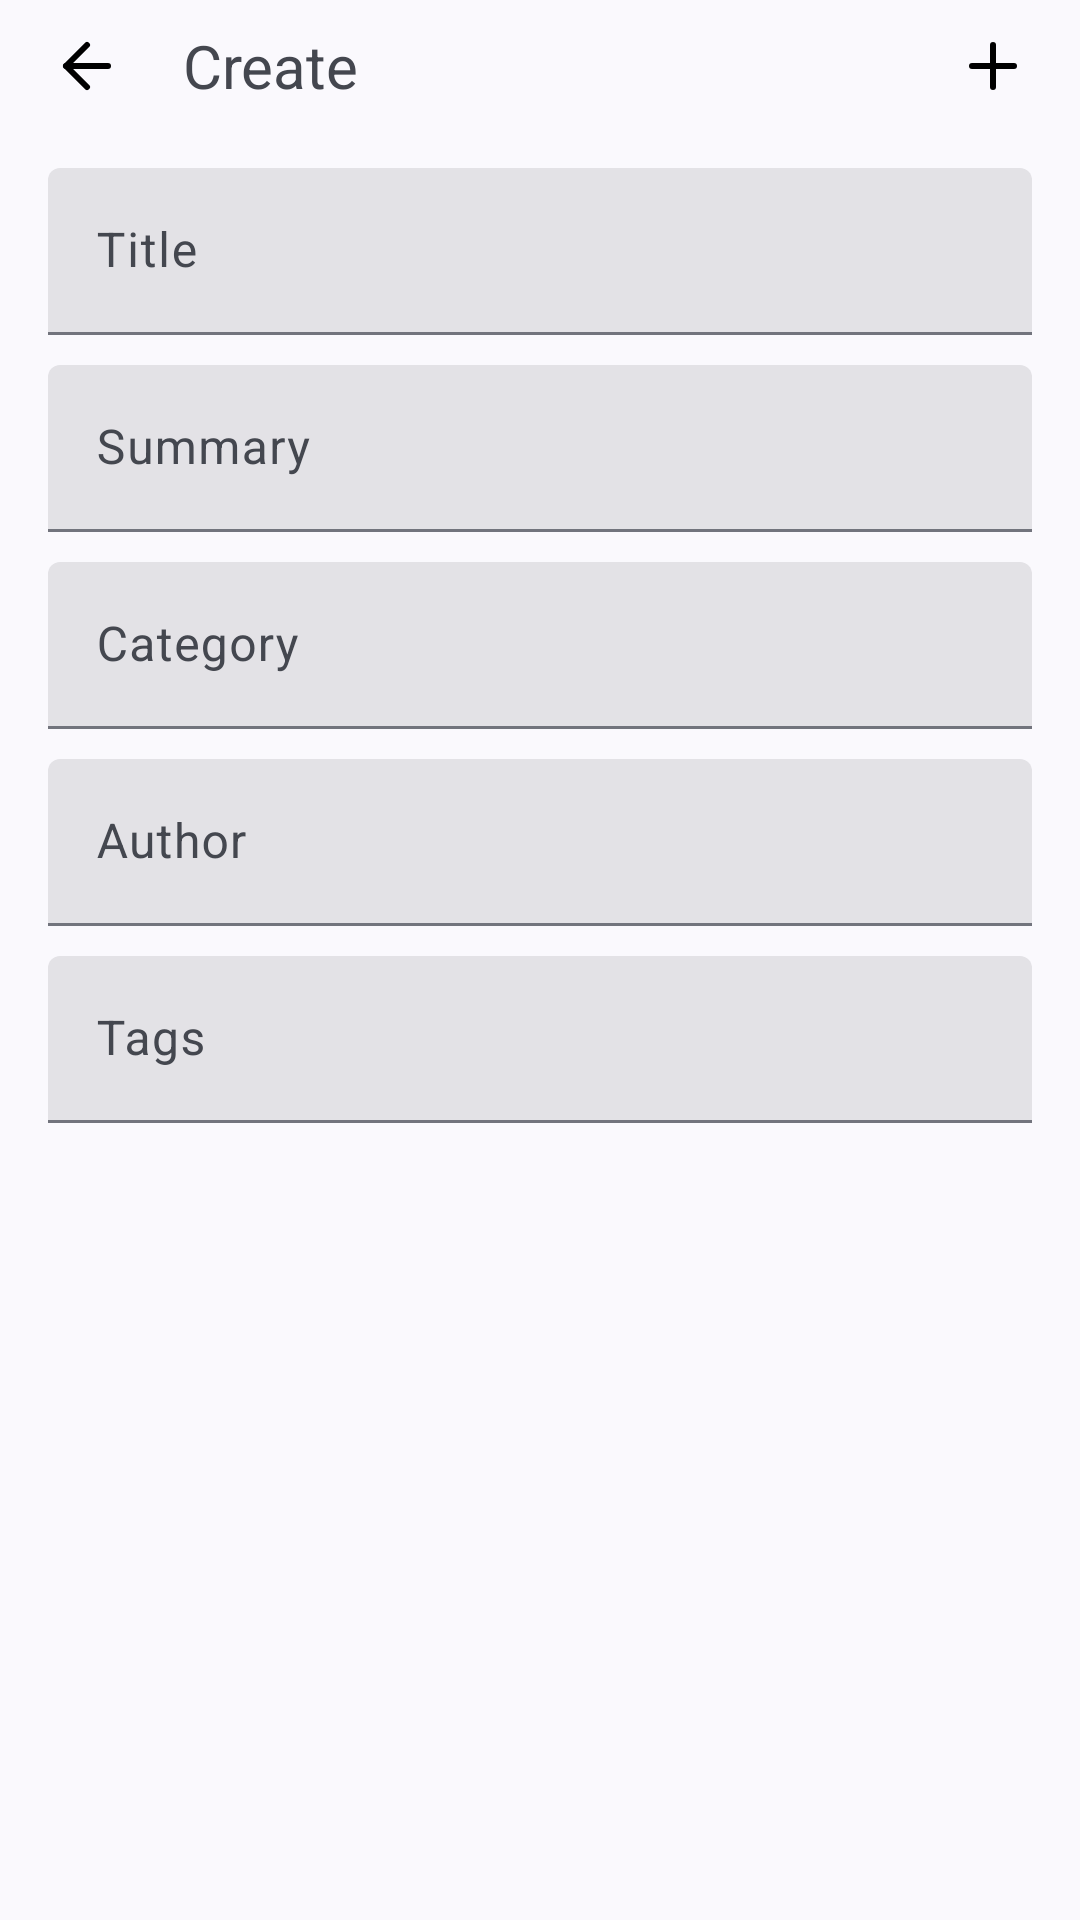

Where icons sit on this 1080×1920 app screen, as Rect(x1, y1, x2, y2):
Navigate back to the main menu: Rect(63, 42, 111, 90)
plus: Rect(969, 42, 1017, 90)
